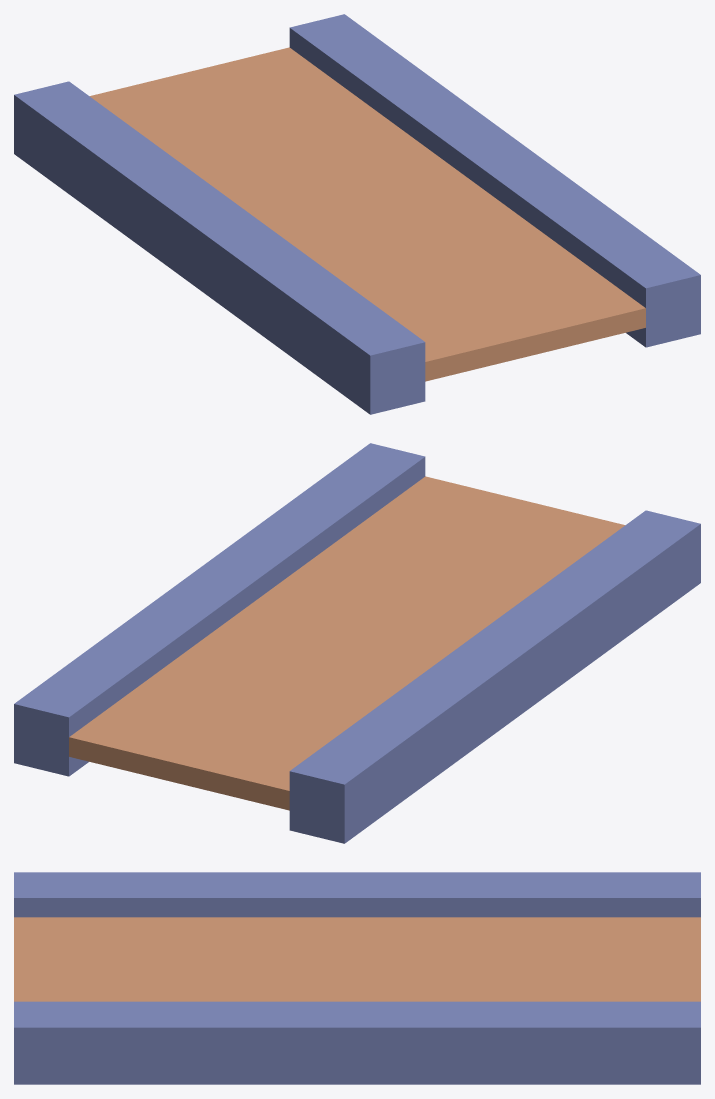
The model's file is bridge_2d_1.fbx.
3 views of the same model, one above another, from view 1: azimuth 30°, elevation 25°; view 2: azimuth 150°, elevation 25°; view 3: azimuth 270°, elevation 25° (orthographic). The views are drawn at different scales.
Parts seen in each view (by area): view 1: bridge_2d_1; view 2: bridge_2d_1; view 3: bridge_2d_1.
Part boxes in pixels (left/top/right/bottom): bridge_2d_1: left=14, top=14, right=700, bottom=414; bridge_2d_1: left=14, top=443, right=700, bottom=843; bridge_2d_1: left=14, top=872, right=700, bottom=1084.
Bounding box in the file's own units: 9.6 × 1.64 × 17.92.
